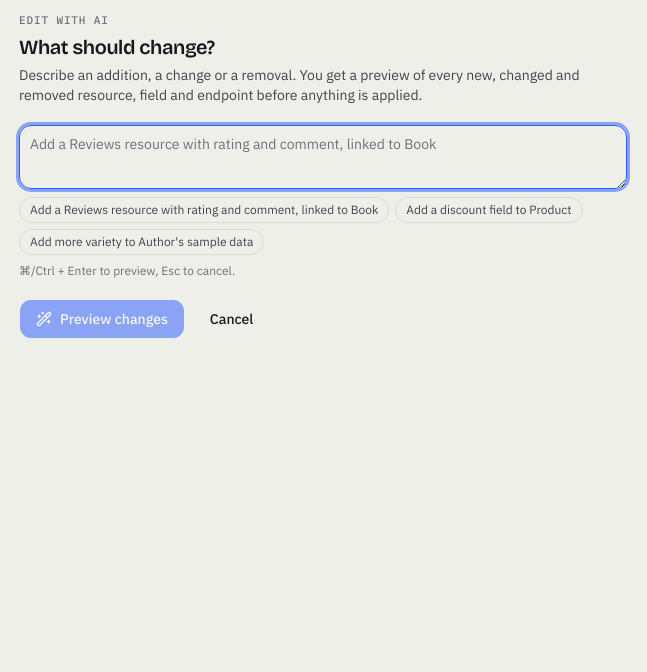
Scenario: I4: a failed sample-data fetch reports what actually failed and clears on retry
Type "Add reviews" into the text box named "Describe what should change".
click(323, 156); type("Add reviews")  # box [19,124,627,188]
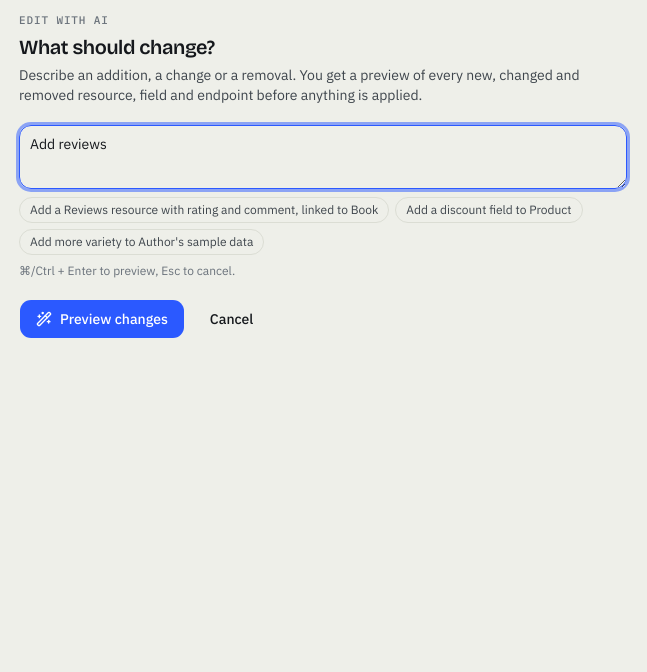
Click the button "Preview changes".
click(102, 318)  # box [19,298,185,338]
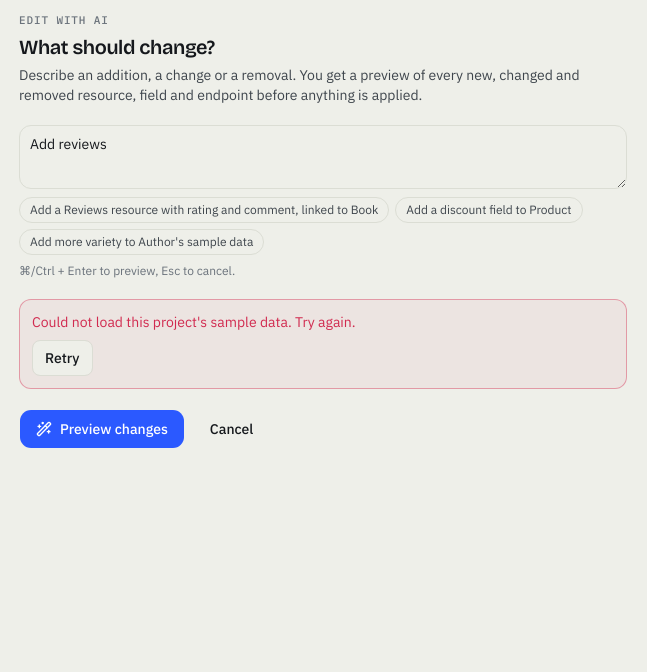
Click the button "Retry".
click(62, 358)  # box [32,340,92,376]
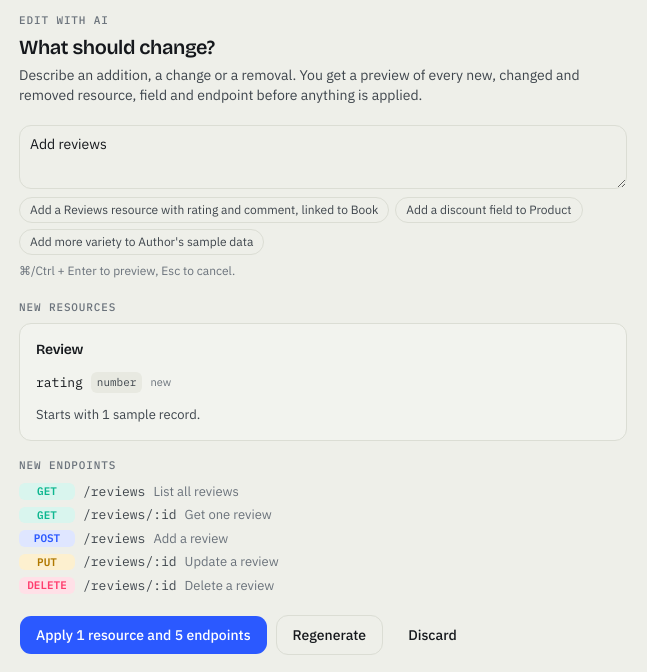
Now the heading "Review" is shown, box [36,341,83,358]
